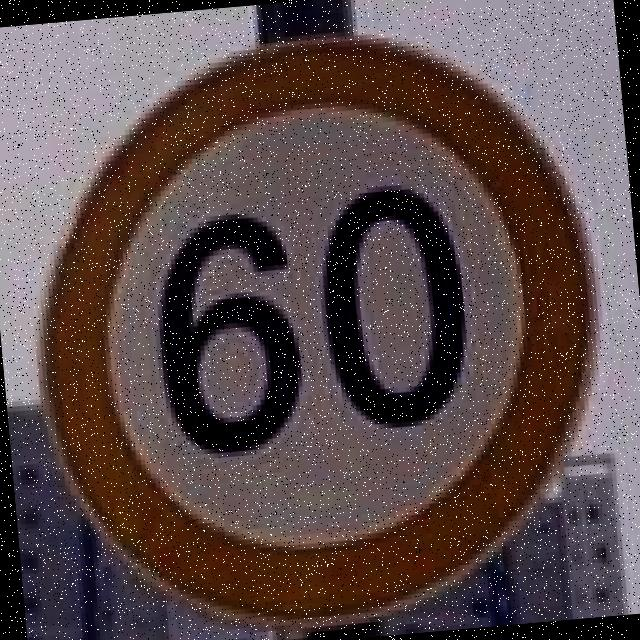Ograniczenie predkosci do 60: (14, 12, 617, 640)
